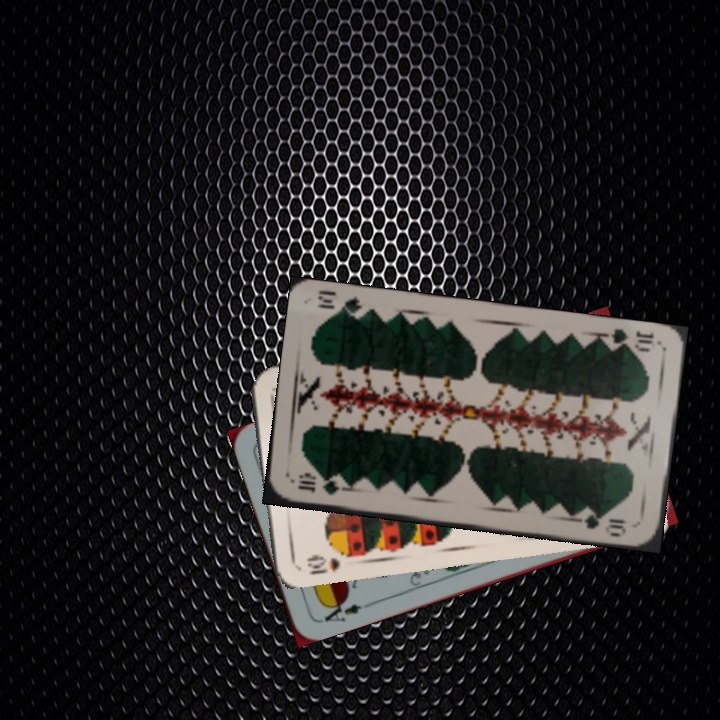EA: (315, 594, 365, 626)
G10: (601, 324, 657, 355), (294, 472, 350, 498)
S10: (303, 551, 343, 578)
